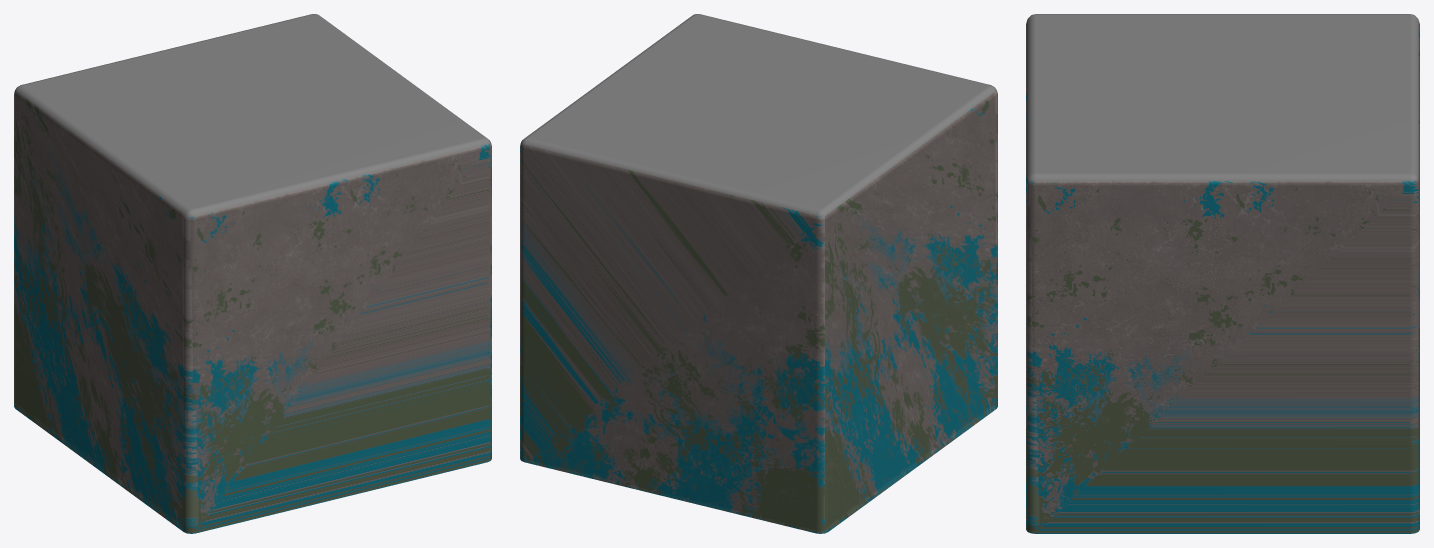
File: Marv_House.obj
The picture shows the model from 3 angles, left to right: view 1: azimuth 30°, elevation 25°; view 2: azimuth 150°, elevation 25°; view 3: azimuth 270°, elevation 25°; orthographic projection. The views are drawn at different scales.
Parts seen in each view (by area): view 1: SlumHouse1; view 2: SlumHouse1; view 3: SlumHouse1.
Boxes of the visible parts, <box> form: SlumHouse1: <box>14,14,491,533</box>; SlumHouse1: <box>520,14,997,533</box>; SlumHouse1: <box>1026,14,1419,533</box>.
Bounding box in the file's own units: 500 × 500 × 500.
Materials: 2 (1 with a texture image).
